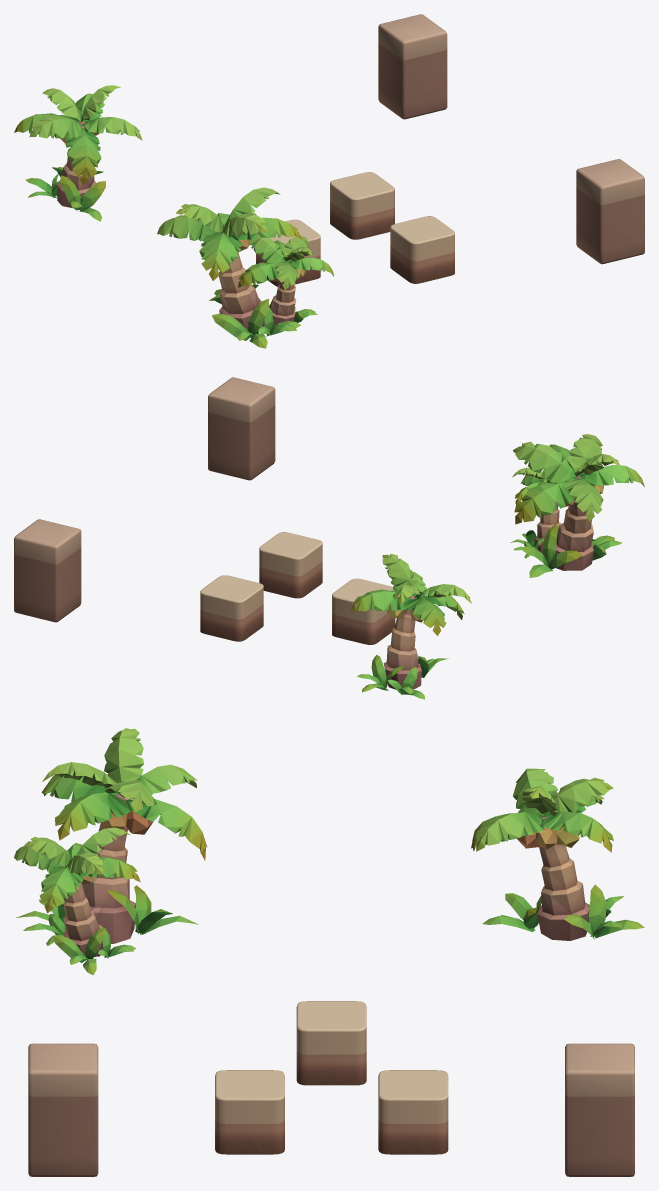
The model's file is Props.fbx.
The picture shows the model from 3 angles, top to bottom: view 1: azimuth 30°, elevation 25°; view 2: azimuth 150°, elevation 25°; view 3: azimuth 270°, elevation 25°; orthographic projection. The views are drawn at different scales.
Visible parts, largest first — view 1: yezishu01, yezishu02, Box03 (1), Box03, Box01, Box01 (1), Box01 (2); view 2: yezishu01, yezishu02, Box03 (1), Box03, Box01 (1), Box01, Box01 (2); view 3: yezishu01, yezishu02, Box03, Box03 (1), Box01 (2), Box01 (1), Box01.
Part boxes in pixels (<box>): yezishu01: <box>157,187,334,348</box>; yezishu02: <box>14,85,142,221</box>; Box03 (1): <box>378,14,447,119</box>; Box03: <box>576,159,644,264</box>; Box01: <box>390,216,454,283</box>; Box01 (1): <box>330,172,394,239</box>; Box01 (2): <box>256,219,320,286</box>; yezishu01: <box>510,434,644,577</box>; yezishu02: <box>350,554,471,699</box>; Box03 (1): <box>14,519,81,622</box>; Box03: <box>208,377,275,480</box>; Box01 (1): <box>200,575,263,641</box>; Box01: <box>259,532,322,598</box>; Box01 (2): <box>332,578,395,644</box>; yezishu01: <box>14,728,207,975</box>; yezishu02: <box>471,768,644,940</box>; Box03: <box>28,1043,98,1176</box>; Box03 (1): <box>565,1043,634,1176</box>; Box01 (2): <box>296,1001,366,1085</box>; Box01 (1): <box>378,1070,448,1154</box>; Box01: <box>215,1070,284,1154</box>.
Size of the model in its own units: 29.06 by 10.64 by 27.03.
Materials: 3 (3 with a texture image).
